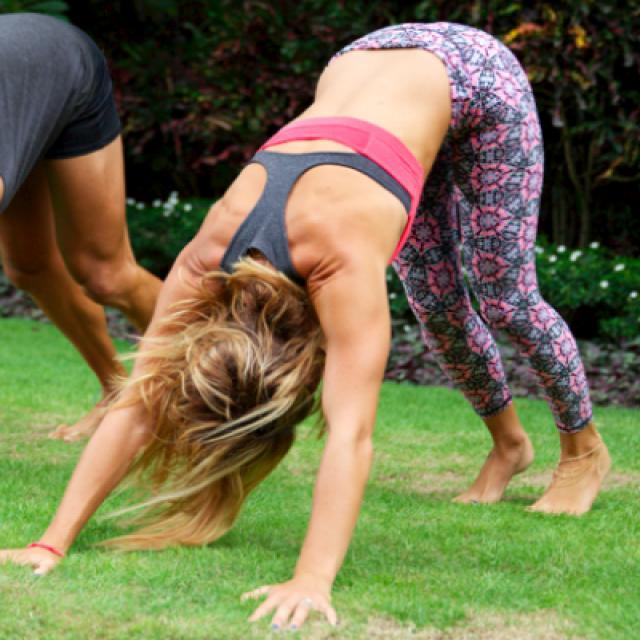Downward-Facing_Dog: (2, 9, 626, 633)
